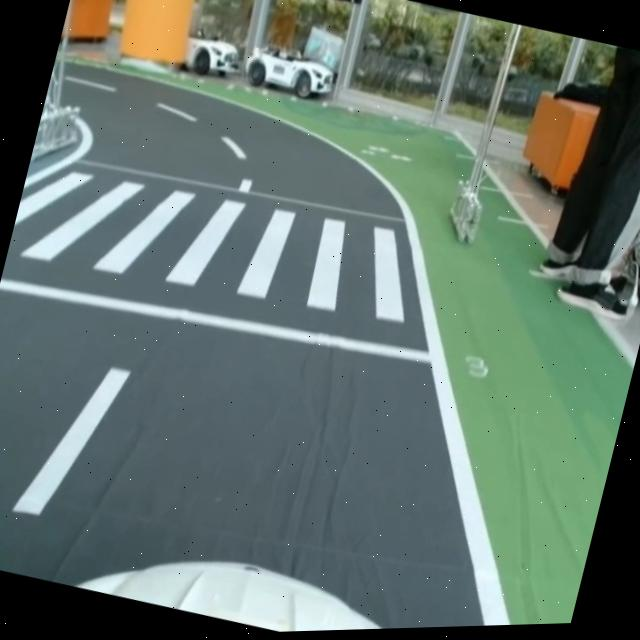traffic-light: (204, 0, 372, 15)
